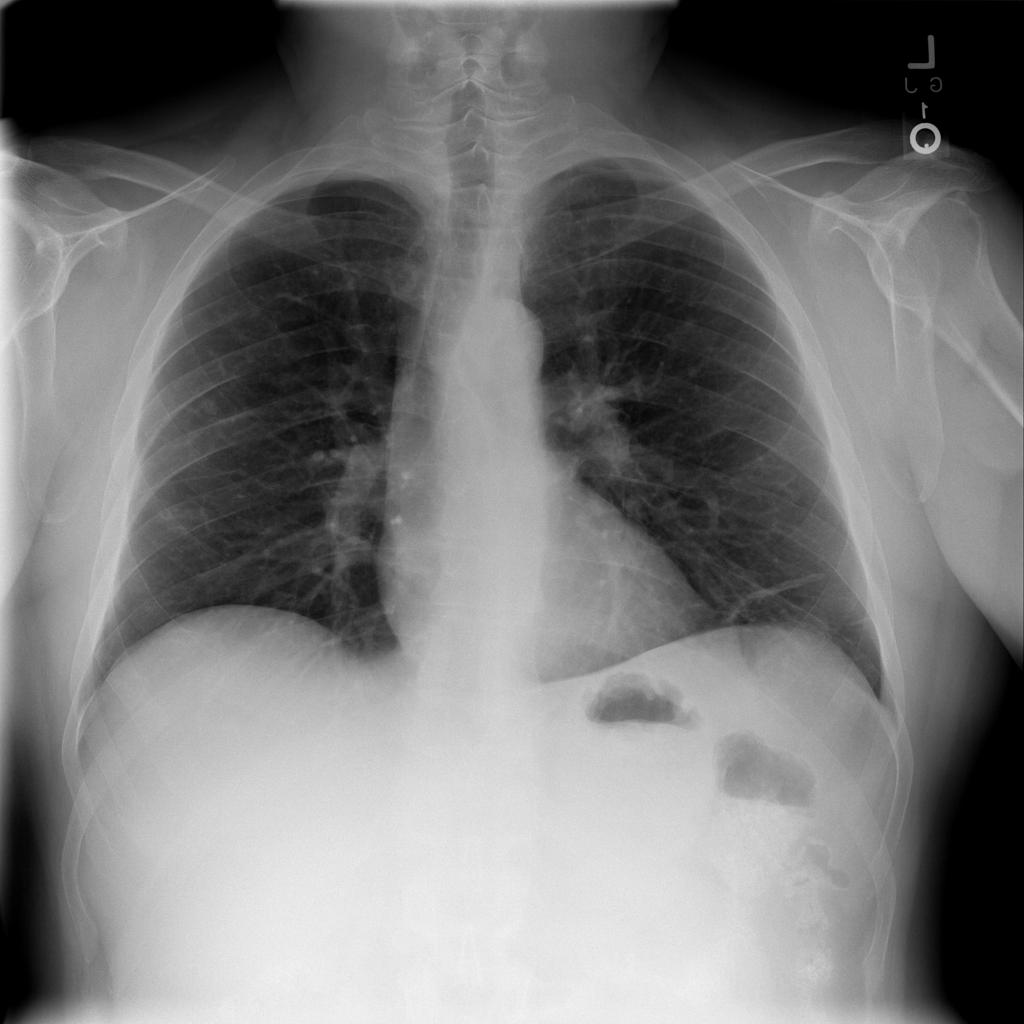nodule: (188, 380, 239, 430)
